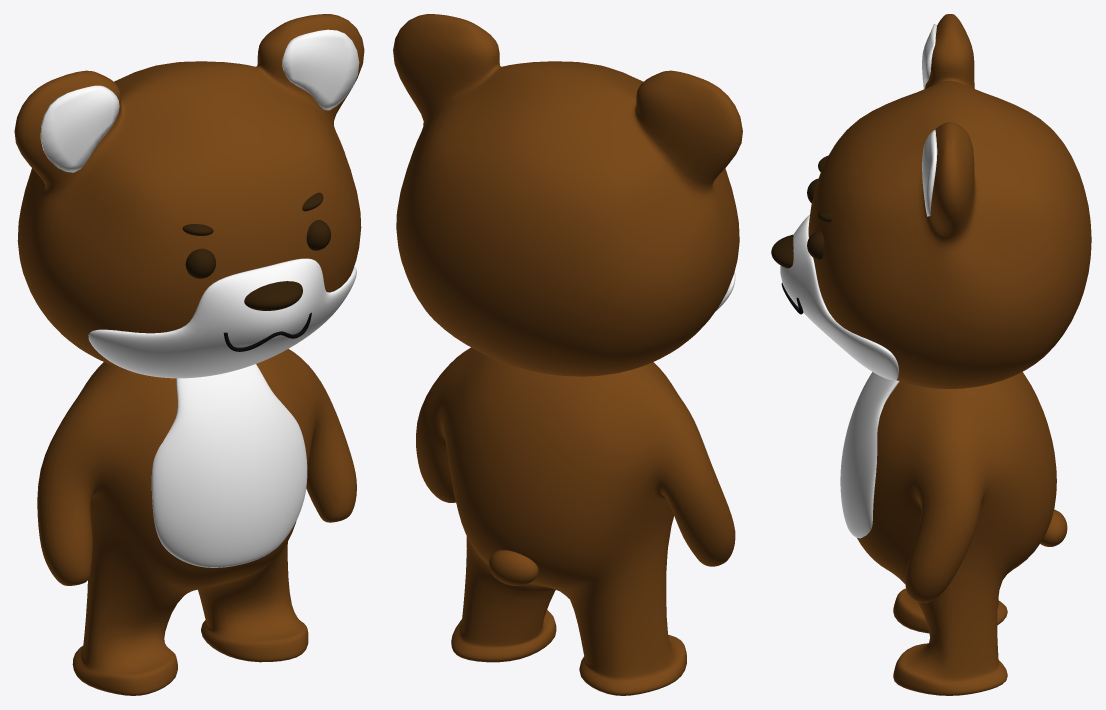
File: cartoon_bear.glb
The picture shows the model from 3 angles, left to right: view 1: azimuth 30°, elevation 25°; view 2: azimuth 150°, elevation 25°; view 3: azimuth 270°, elevation 25°; orthographic projection. The views are drawn at different scales.
Parts seen in each view (by area): view 1: Cube, Cube.001, Cube.004, Cube.002, Cube.003, Sphere, Sphere.001, Sphere.003; view 2: Cube, Cube.001, Sphere.002; view 3: Cube, Cube.001, Cube.004, Cube.002, Cube.003, Sphere.002, Sphere.001, Sphere.
Boxes of the visible parts, bbox=[...] form: Cube: bbox=[14, 14, 364, 370]; Cube.001: bbox=[37, 349, 356, 695]; Cube.004: bbox=[151, 364, 307, 567]; Cube.002: bbox=[88, 258, 356, 378]; Cube.003: bbox=[40, 29, 359, 172]; Sphere: bbox=[185, 220, 330, 278]; Sphere.001: bbox=[244, 281, 302, 310]; Sphere.003: bbox=[182, 192, 323, 235]; Cube: bbox=[393, 14, 742, 376]; Cube.001: bbox=[416, 347, 735, 695]; Sphere.002: bbox=[488, 550, 538, 585]; Cube: bbox=[808, 14, 1091, 388]; Cube.001: bbox=[857, 372, 1056, 695]; Cube.004: bbox=[840, 372, 899, 538]; Cube.002: bbox=[780, 215, 898, 380]; Cube.003: bbox=[922, 24, 937, 216]; Sphere.002: bbox=[1040, 509, 1067, 546]; Sphere.001: bbox=[771, 234, 793, 268]; Sphere: bbox=[807, 178, 824, 259].
Bounding box in the file's own units: 2.12 × 3.58 × 1.81.
